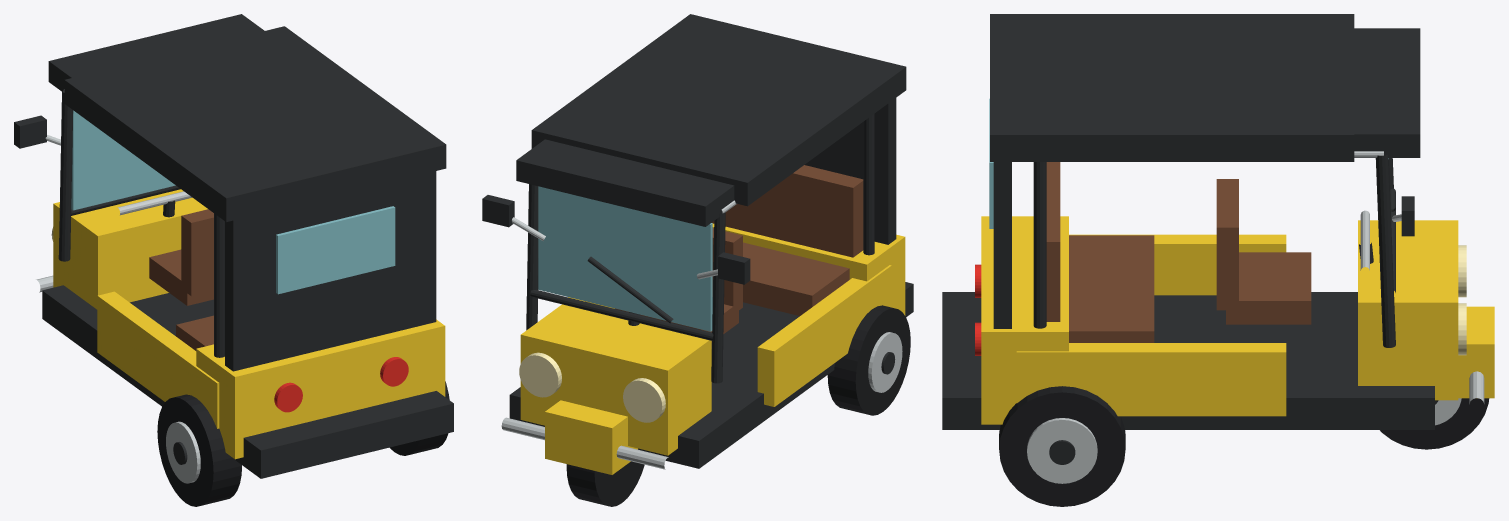
The model's file is auto_rickshaw.glb.
3 renders of one model, left to right at view 1: azimuth 30°, elevation 25°; view 2: azimuth 150°, elevation 25°; view 3: azimuth 270°, elevation 25°, orthographic. The views are drawn at different scales.
Parts seen in each view (by area): view 1: Rear roof canopy, Back upper panel, Rear body, Floor and chassis, Front cowl, Left lower side, Rear window, Windshield, Wheel tyre, Front roof visor, Driver seat back, Windshield pillar (+10 smaller); view 2: Rear roof canopy, Windshield, Front cowl, Front roof visor, Floor and chassis, Passenger seat back, Left lower side, Passenger seat cushion, Back upper panel, Front apron, Wheel tyre, Rear body (+14 smaller); view 3: Rear roof canopy, Floor and chassis, Right lower side, Front cowl, Rear body, Passenger seat cushion, Wheel tyre.001, Front roof visor, Driver seat cushion, Left lower side, Wheel hub.001, Back upper panel (+6 smaller).
Boxes of the visible parts, x1,y1,x2,y2 form: Rear roof canopy: [64, 26, 446, 221]; Back upper panel: [225, 171, 436, 371]; Rear body: [196, 319, 445, 459]; Floor and chassis: [42, 285, 453, 478]; Front cowl: [53, 189, 207, 309]; Left lower side: [97, 291, 219, 428]; Rear window: [276, 206, 395, 294]; Windshield: [71, 110, 175, 210]; Wheel tyre: [157, 394, 241, 506]; Front roof visor: [48, 14, 264, 92]; Driver seat back: [181, 209, 213, 296]; Windshield pillar: [58, 91, 73, 261]; Rear roof canopy: [531, 14, 906, 206]; Windshield: [538, 186, 712, 331]; Front cowl: [520, 304, 711, 455]; Front roof visor: [516, 139, 736, 226]; Floor and chassis: [509, 282, 913, 468]; Passenger seat back: [711, 165, 863, 257]; Left lower side: [757, 265, 891, 406]; Passenger seat cushion: [743, 242, 849, 315]; Back upper panel: [804, 98, 896, 244]; Front apron: [545, 400, 637, 474]; Wheel tyre: [827, 305, 910, 415]; Rear body: [712, 223, 905, 315]; Rear roof canopy: [990, 14, 1354, 161]; Floor and chassis: [942, 292, 1434, 429]; Right lower side: [1016, 343, 1286, 416]; Front cowl: [1358, 220, 1458, 400]; Rear body: [981, 216, 1068, 424]; Passenger seat cushion: [1069, 235, 1154, 342]; Wheel tyre.001: [999, 386, 1125, 506]; Front roof visor: [1354, 28, 1420, 157]; Driver seat cushion: [1226, 252, 1311, 324]; Left lower side: [1069, 234, 1286, 295]; Wheel hub.001: [1027, 418, 1097, 483]; Back upper panel: [993, 162, 1011, 328].
Bounding box in the file's own units: 1.87 × 2.18 × 2.97.
